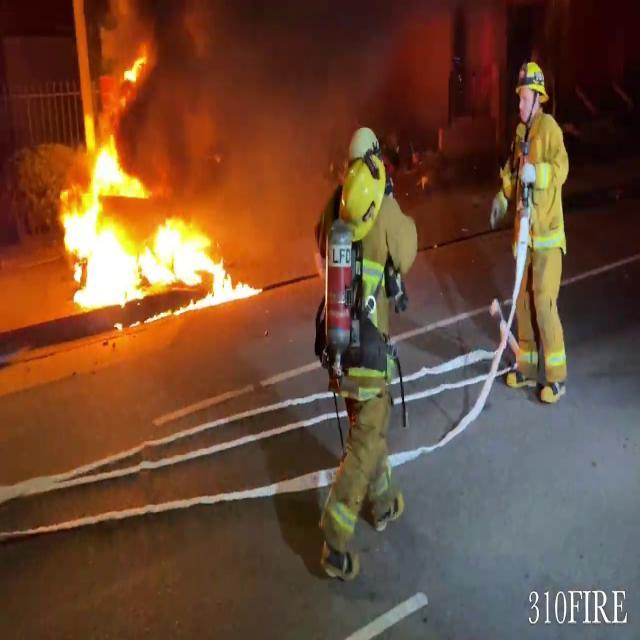Fire: (44, 112, 258, 314)
Smoke: (138, 8, 414, 224)
